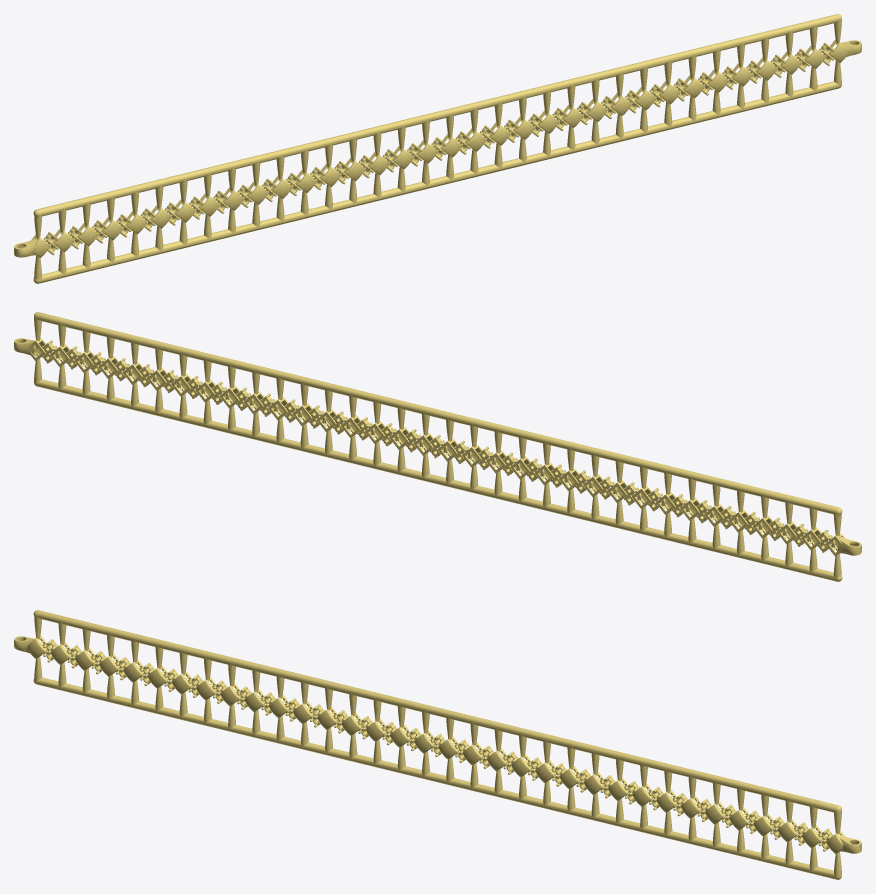
File: yzn5-90_5.glb
3 views of the same model, one above another, from view 1: azimuth 30°, elevation 25°; view 2: azimuth 150°, elevation 25°; view 3: azimuth 330°, elevation 25° (orthographic).
Parts seen in each view (by area): view 1: Renderer Node; view 2: Renderer Node; view 3: Renderer Node.
Part boxes in pixels (left/top/right/bottom): Renderer Node: left=14, top=14, right=861, bottom=283; Renderer Node: left=14, top=312, right=861, bottom=581; Renderer Node: left=14, top=610, right=861, bottom=879.
Bounding box in the file's own units: 180 × 14.98 × 2.82.
